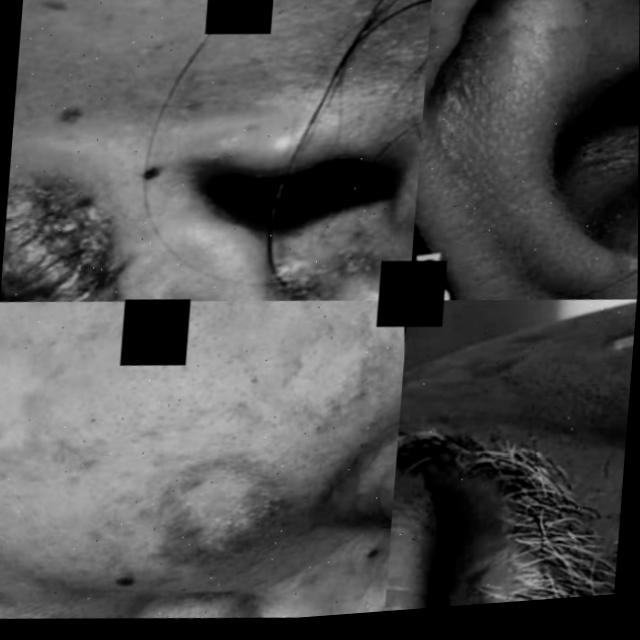lupus-detected: (0, 15, 427, 330), (406, 0, 640, 316), (112, 376, 286, 580), (382, 485, 557, 611), (537, 293, 636, 392), (315, 558, 387, 616)
